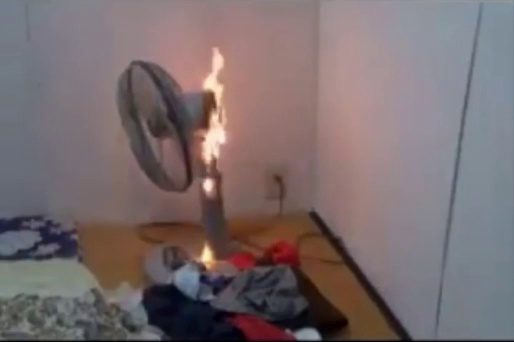fire: (190, 45, 239, 171)
